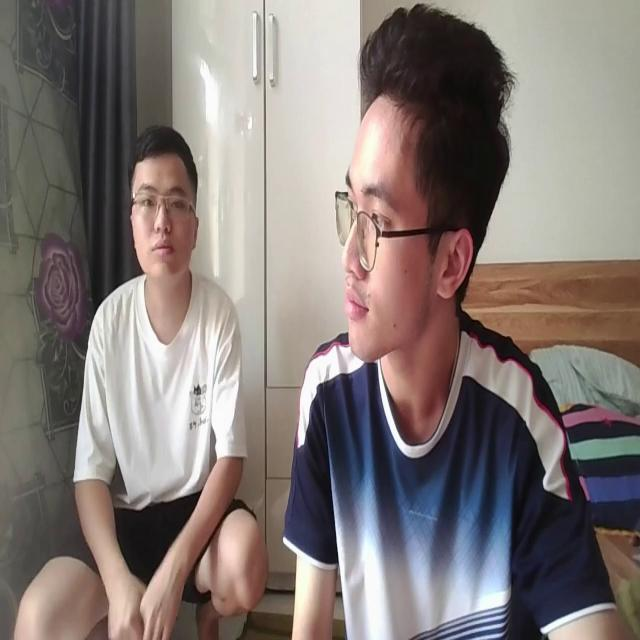extra_person: (11, 119, 265, 640)
student: (281, 1, 629, 640)
